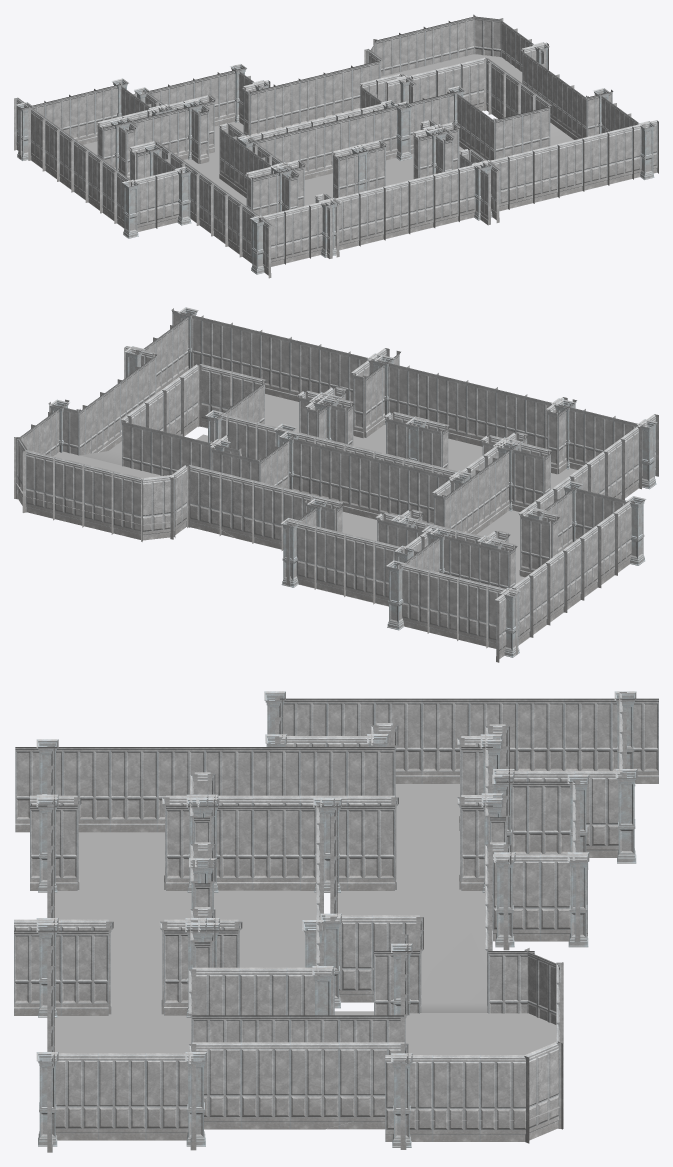
The model's file is Museum.gltf.
3 renders of one model, top to bottom at view 1: azimuth 30°, elevation 25°; view 2: azimuth 150°, elevation 25°; view 3: azimuth 270°, elevation 25°, orthographic. The views are drawn at different scales.
Visible parts, largest first — view 1: Wall_tile66, Wall_tile64, Wall_tile61, Wall_tile70, Wall_tile67, Wall_tile71, Wall_tile65, Wall_tile72, Wall_tile73, Wall_tile74, polySurface24, Wall_tile99 (+86 smaller); view 2: Wall_tile125, Wall_tile126, Wall_tile153, Wall_tile151, Wall_tile84, Wall_tile89, Wall_tile4, Wall_tile152, Wall_tile85, Wall_tile150, Wall_tile90, Wall_tile32 (+88 smaller); view 3: polySurface32, polySurface33, polySurface27, polySurface24, polySurface26, polySurface28, Wall_tile136, Wall_tile137, Wall_tile132, Wall_tile157, Wall_tile138, Wall_tile161 (+67 smaller).
Boxes of the visible parts, <box> form: Wall_tile66: <box>408,174,435,233</box>; Wall_tile64: <box>358,187,385,246</box>; Wall_tile61: <box>284,205,309,264</box>; Wall_tile70: <box>607,126,632,185</box>; Wall_tile67: <box>433,168,458,227</box>; Wall_tile71: <box>582,132,607,191</box>; Wall_tile65: <box>383,181,408,239</box>; Wall_tile72: <box>557,138,582,197</box>; Wall_tile73: <box>532,144,557,203</box>; Wall_tile74: <box>507,150,532,209</box>; polySurface24: <box>304,158,413,205</box>; Wall_tile99: <box>155,169,181,228</box>; Wall_tile125: <box>187,465,221,535</box>; Wall_tile126: <box>221,472,254,543</box>; Wall_tile153: <box>141,474,175,541</box>; Wall_tile151: <box>23,450,55,520</box>; Wall_tile84: <box>345,534,375,604</box>; Wall_tile89: <box>458,578,488,647</box>; Wall_tile4: <box>349,452,380,519</box>; Wall_tile152: <box>55,457,84,527</box>; Wall_tile85: <box>316,526,346,596</box>; Wall_tile150: <box>84,464,113,534</box>; Wall_tile90: <box>429,570,459,640</box>; Wall_tile32: <box>254,480,284,550</box>; polySurface32: <box>337,882,492,1012</box>; polySurface33: <box>54,883,191,1015</box>; polySurface27: <box>78,823,459,882</box>; polySurface24: <box>214,890,316,967</box>; polySurface26: <box>405,1013,559,1120</box>; polySurface28: <box>54,1015,191,1140</box>; Wall_tile136: <box>241,1042,290,1129</box>; Wall_tile137: <box>290,1042,339,1129</box>; Wall_tile132: <box>98,1053,145,1140</box>; Wall_tile157: <box>432,1055,479,1141</box>; Wall_tile138: <box>339,1042,388,1129</box>; Wall_tile161: <box>61,930,108,1015</box>.
Bounding box in the file's own units: 56.03 × 6 × 40.73.
3 materials, 2 textured.
